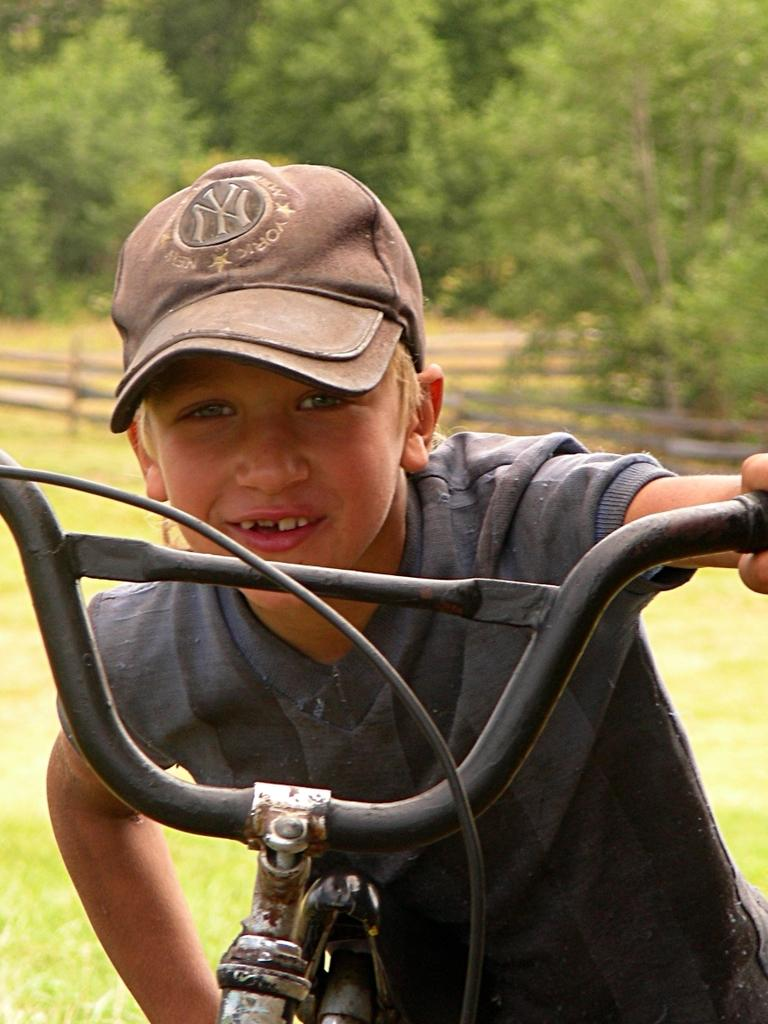Hat: (108, 160, 424, 425)
